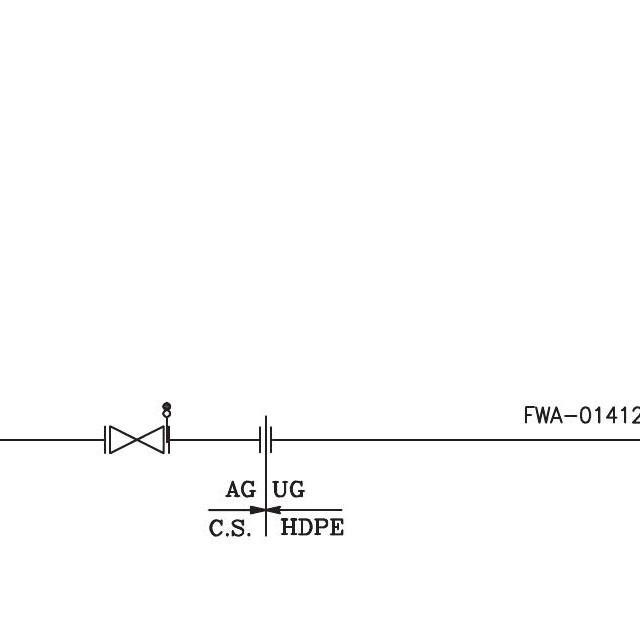GV: (103, 418, 167, 461)
